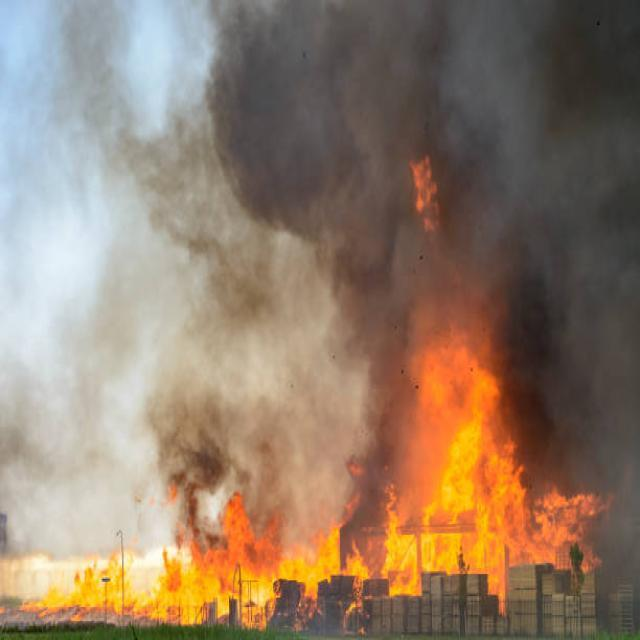Fire: (396, 328, 604, 582), (180, 490, 378, 624), (409, 158, 446, 228)
Smoke: (176, 0, 640, 517)
